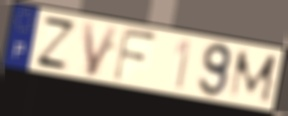1: (174, 38, 193, 93)
9: (195, 41, 233, 99)
F: (111, 25, 159, 84)
M: (227, 49, 279, 106)
V: (80, 20, 121, 79)
Z: (33, 14, 80, 73)
